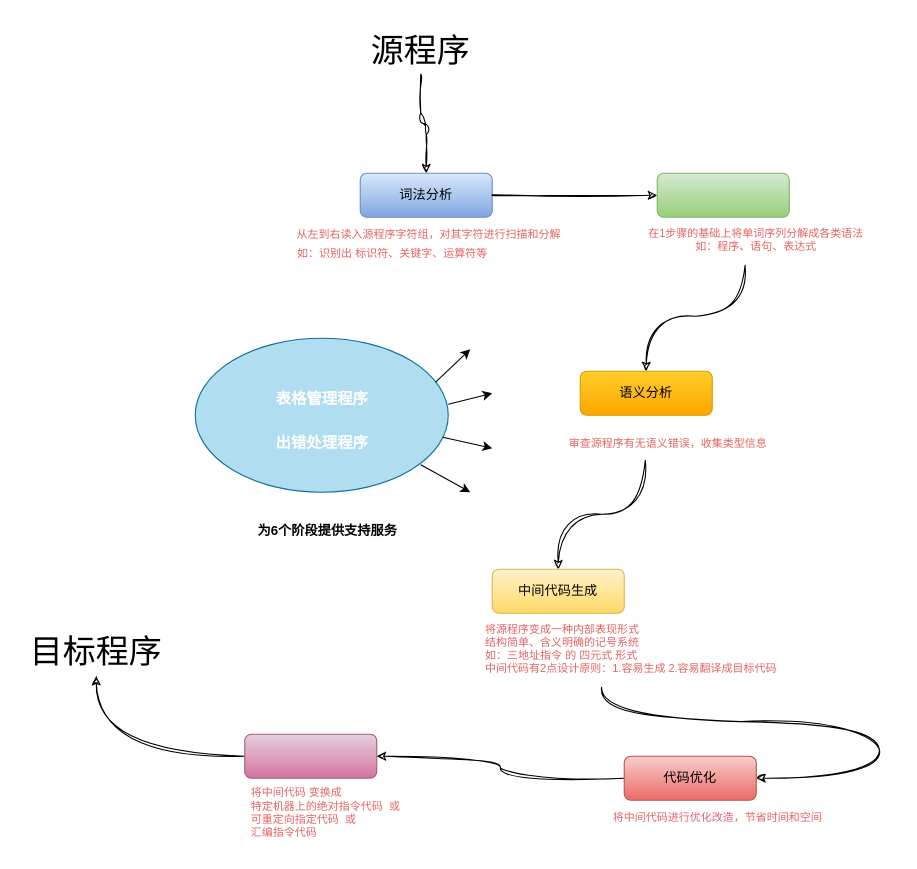
The diagram is 917 pixels wide and 869 high, and some of its shapes have lost their labels. Each missing label, with the centre of its shape:
目标代码生成: point 310,755
语法分析: point 722,194
